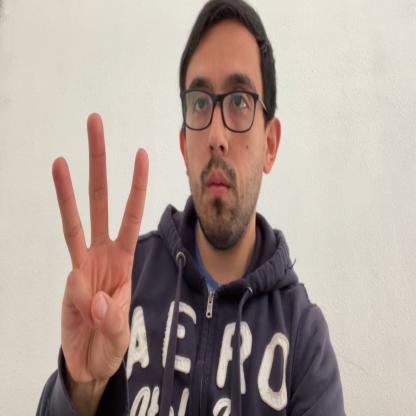W: (51, 112, 150, 386)
